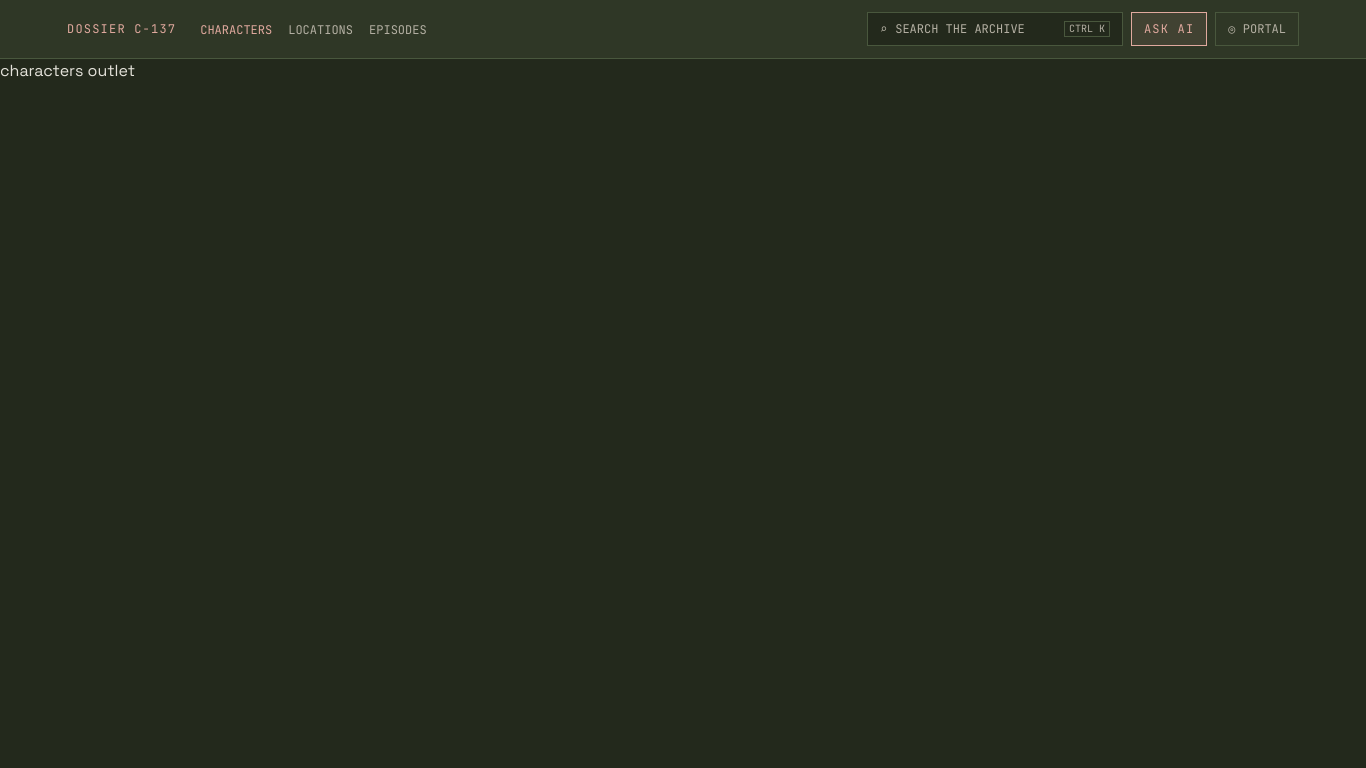
AppLayout › opens the search overlay from the header button
The image size is (1366, 768).
Click the button "⌕ SEARCH THE ARCHIVE CTRL K" at (995, 29), box 867,12 -> 1123,46
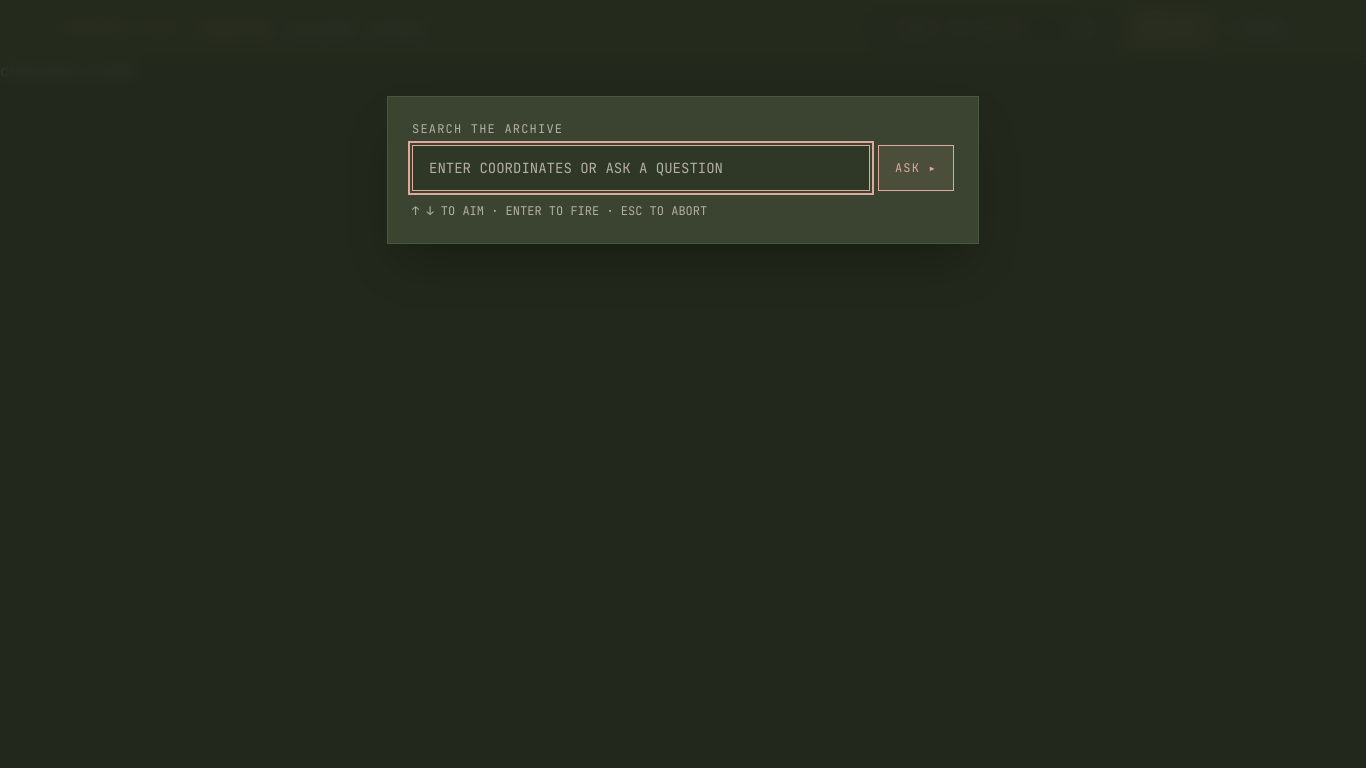
Expected: the dialog "SEARCH" is shown
